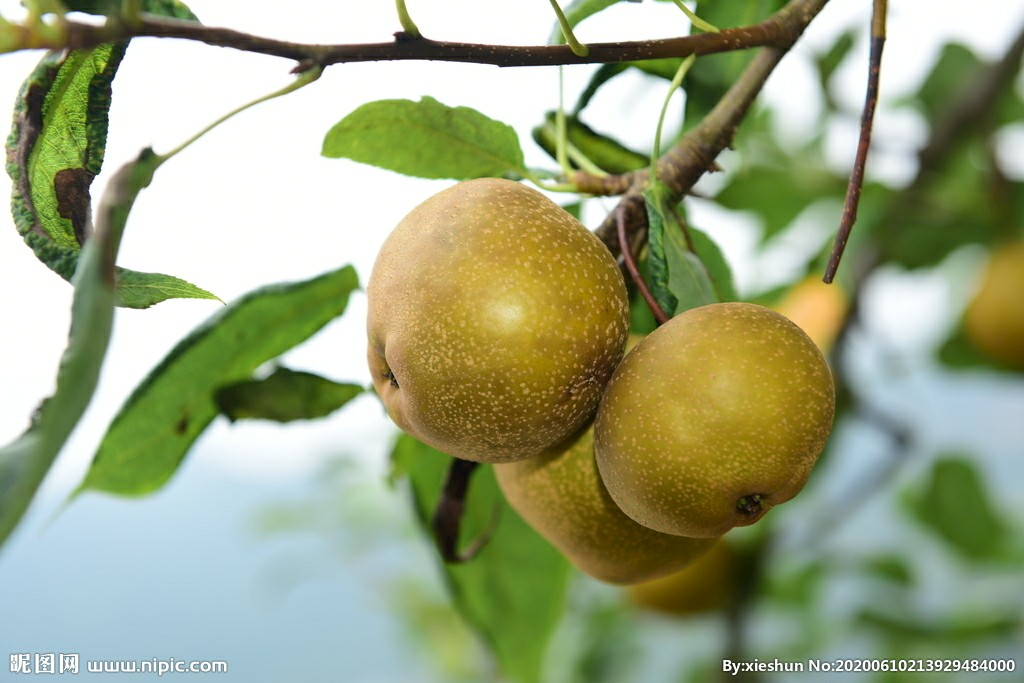pear: (367, 174, 625, 463), (492, 330, 741, 584), (596, 303, 834, 537)
